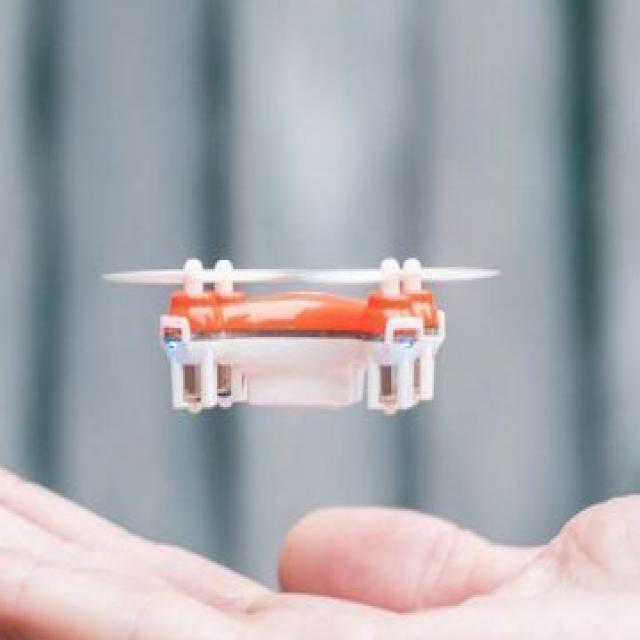drone: (94, 219, 546, 441)
